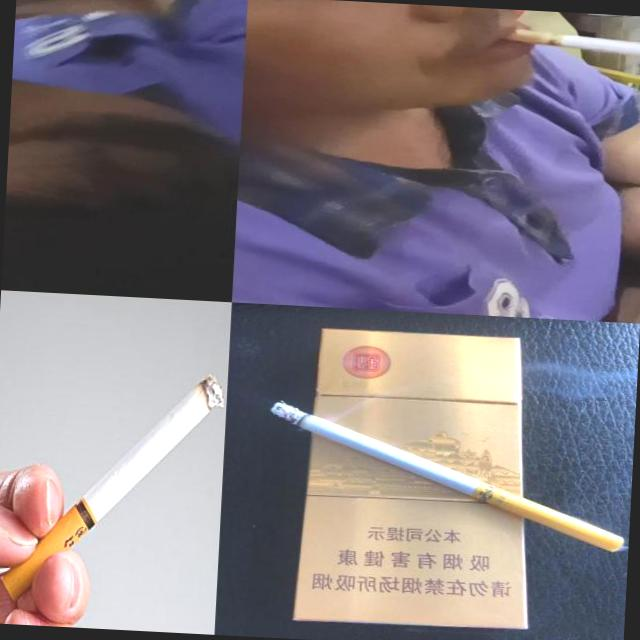cigarette: (0, 360, 226, 615), (263, 400, 630, 552), (494, 26, 640, 64)
